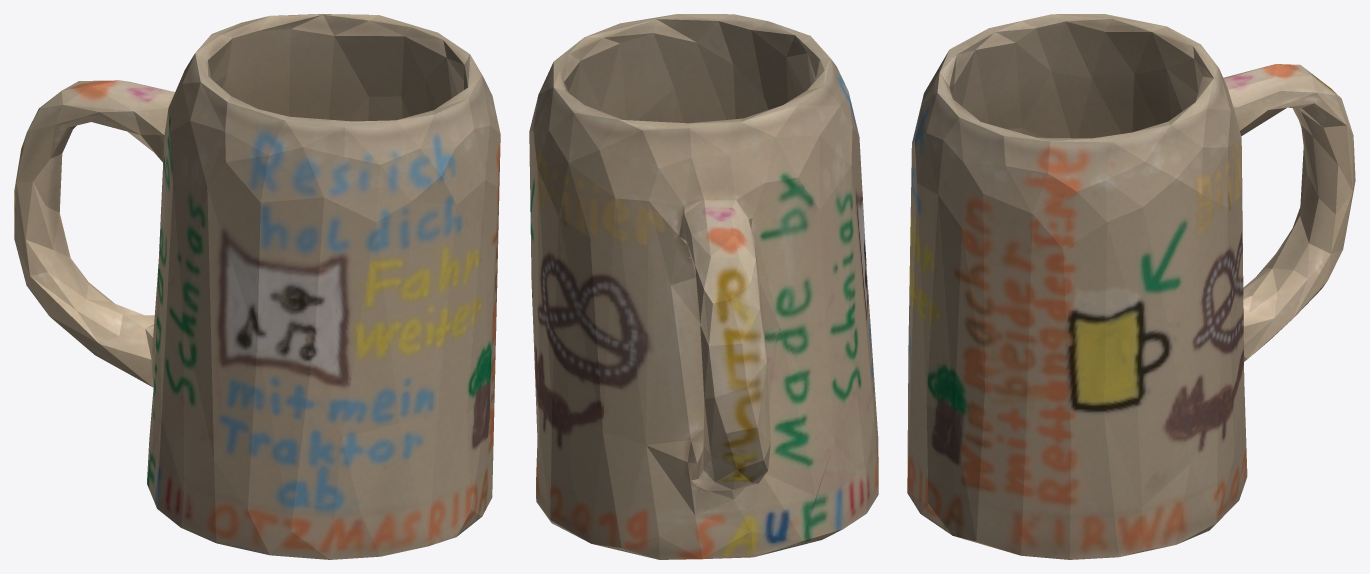
3 views of the same model, side by side, from view 1: azimuth 30°, elevation 25°; view 2: azimuth 150°, elevation 25°; view 3: azimuth 270°, elevation 25° (orthographic).
Visible parts, largest first — view 1: Krug Sprueche_0.7k_0.5k; view 2: Krug Sprueche_0.7k_0.5k; view 3: Krug Sprueche_0.7k_0.5k.
Part boxes in pixels (x1,y1,x2,y2): Krug Sprueche_0.7k_0.5k: (14, 14, 500, 559); Krug Sprueche_0.7k_0.5k: (529, 14, 878, 559); Krug Sprueche_0.7k_0.5k: (907, 14, 1355, 559).
Size of the model in its own units: 0.1109 by 0.1339 by 0.1281.
1 material, 1 textured.
